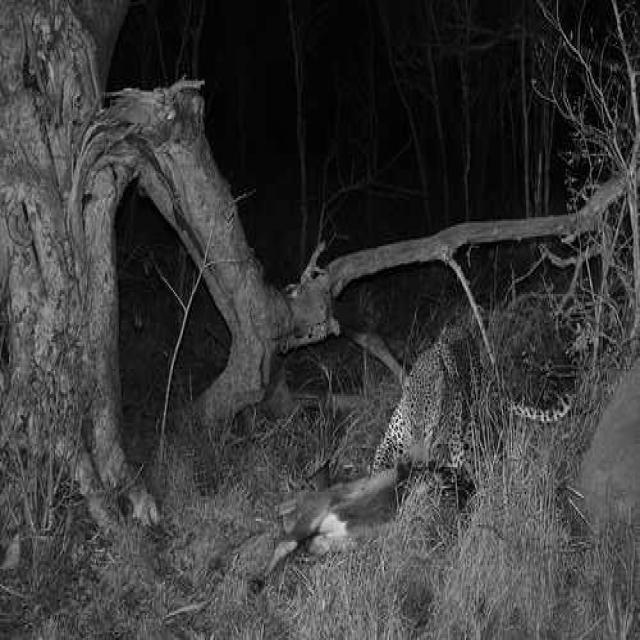Leopard: (343, 287, 556, 527)
